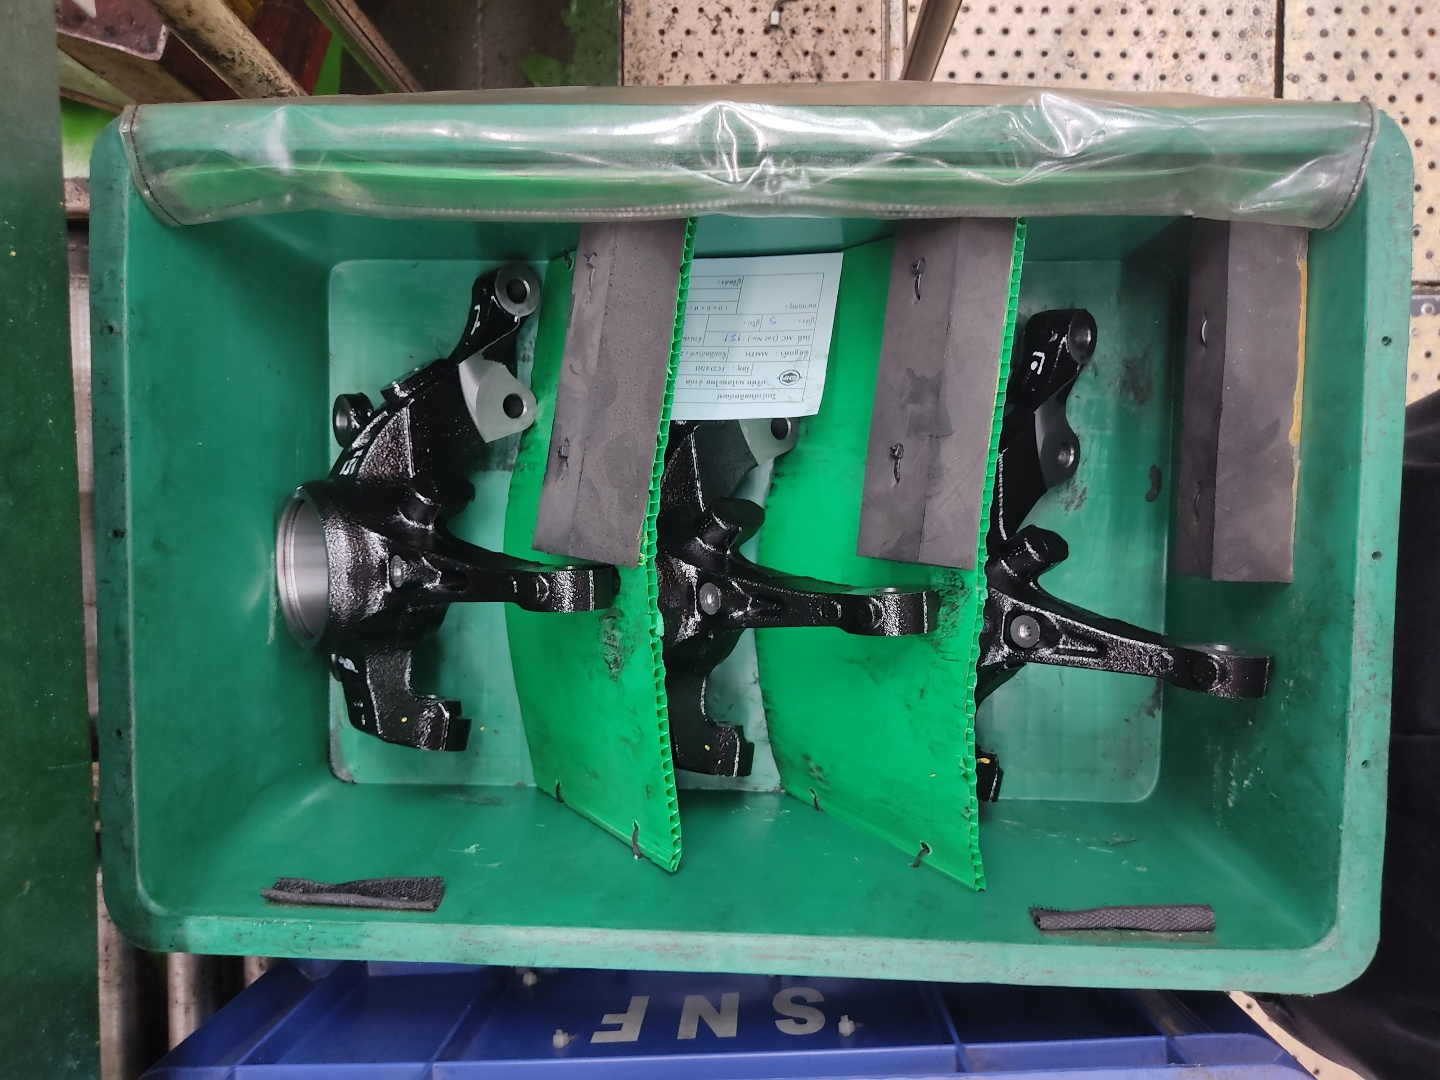non-lh: (266, 250, 629, 778), (952, 298, 1286, 828), (637, 267, 949, 795)
